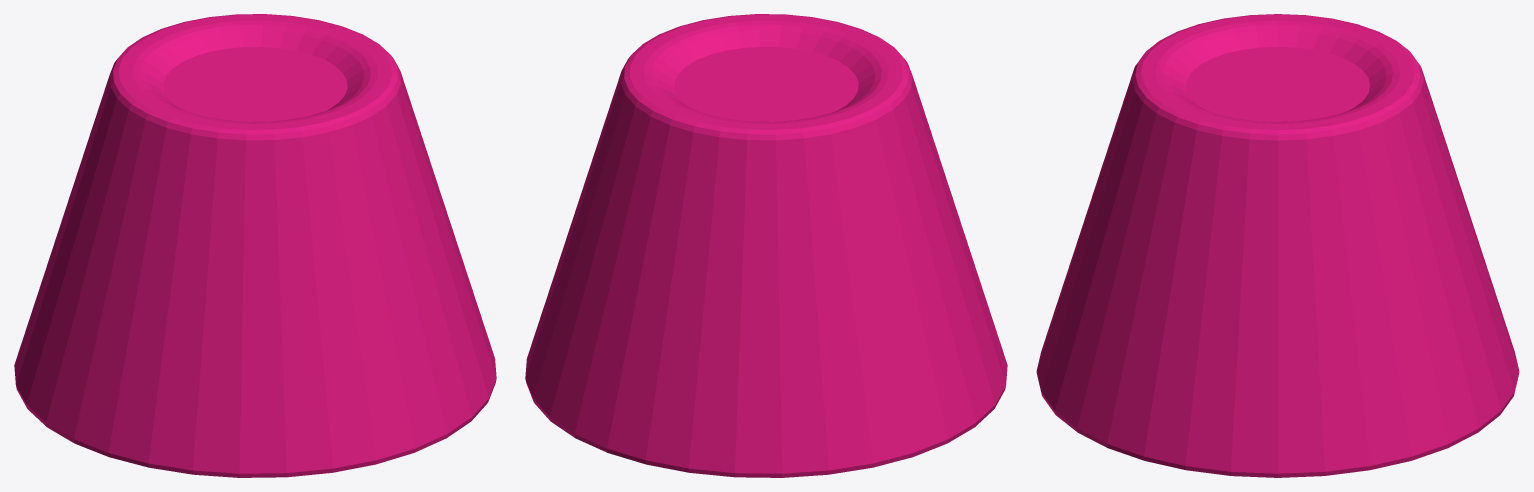
File: GumDrop.fbx
The picture shows the model from 3 angles, left to right: view 1: azimuth 30°, elevation 25°; view 2: azimuth 150°, elevation 25°; view 3: azimuth 270°, elevation 25°; orthographic projection.
Visible parts, largest first — view 1: GumDrop; view 2: GumDrop; view 3: GumDrop.
Boxes of the visible parts, x1,y1,x2,y2 form: GumDrop: (14, 14, 496, 477); GumDrop: (525, 14, 1007, 477); GumDrop: (1036, 14, 1519, 477).
Bounding box in the file's own units: 199 × 139 × 199.
